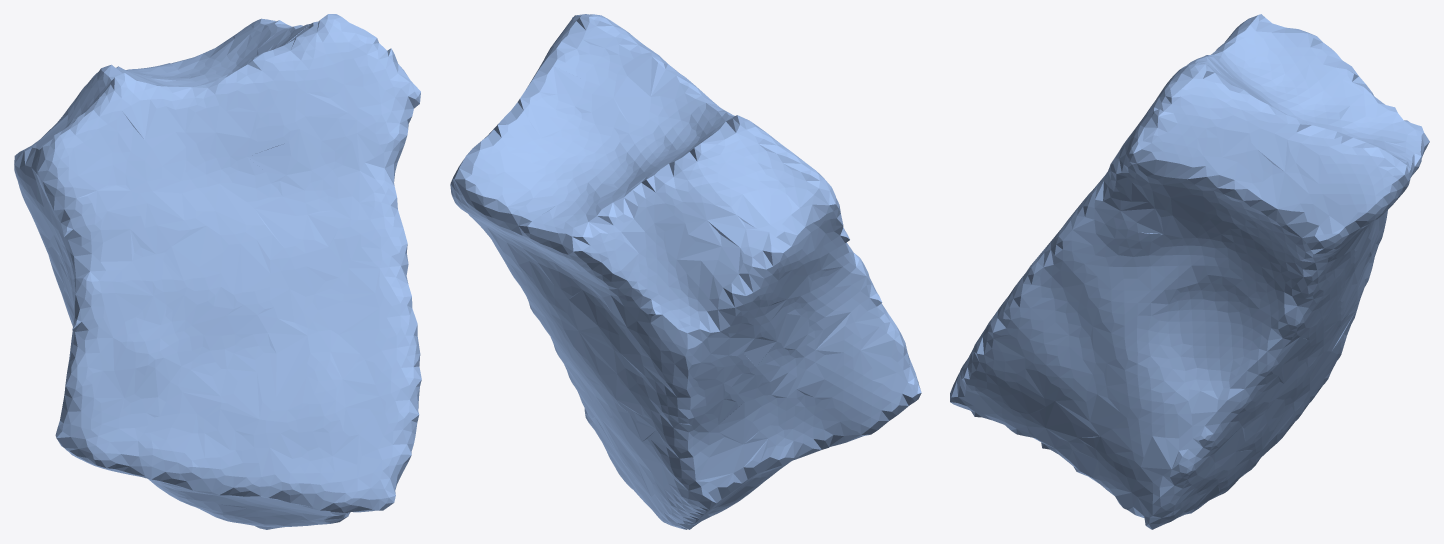
The model's file is Model_10038_LH__Area_8a_of_cortex__dorsal_part_(A8aD).obj.
3 views of the same model, side by side, from view 1: azimuth 30°, elevation 25°; view 2: azimuth 150°, elevation 25°; view 3: azimuth 270°, elevation 25° (orthographic). The views are drawn at different scales.
Size of the model in its own units: 3.07 by 3.93 by 3.54.
